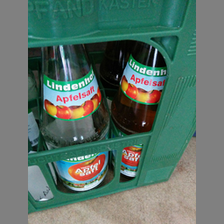juice: (40, 45, 112, 193), (107, 39, 171, 178)
